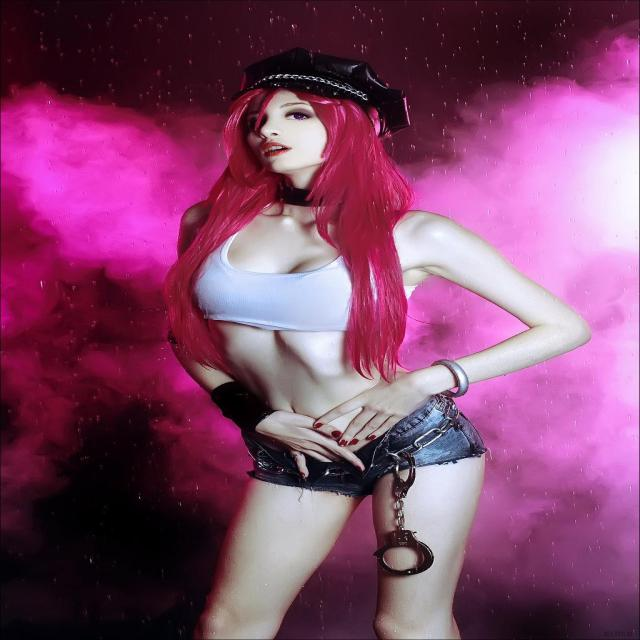Face: (241, 93, 340, 181)
